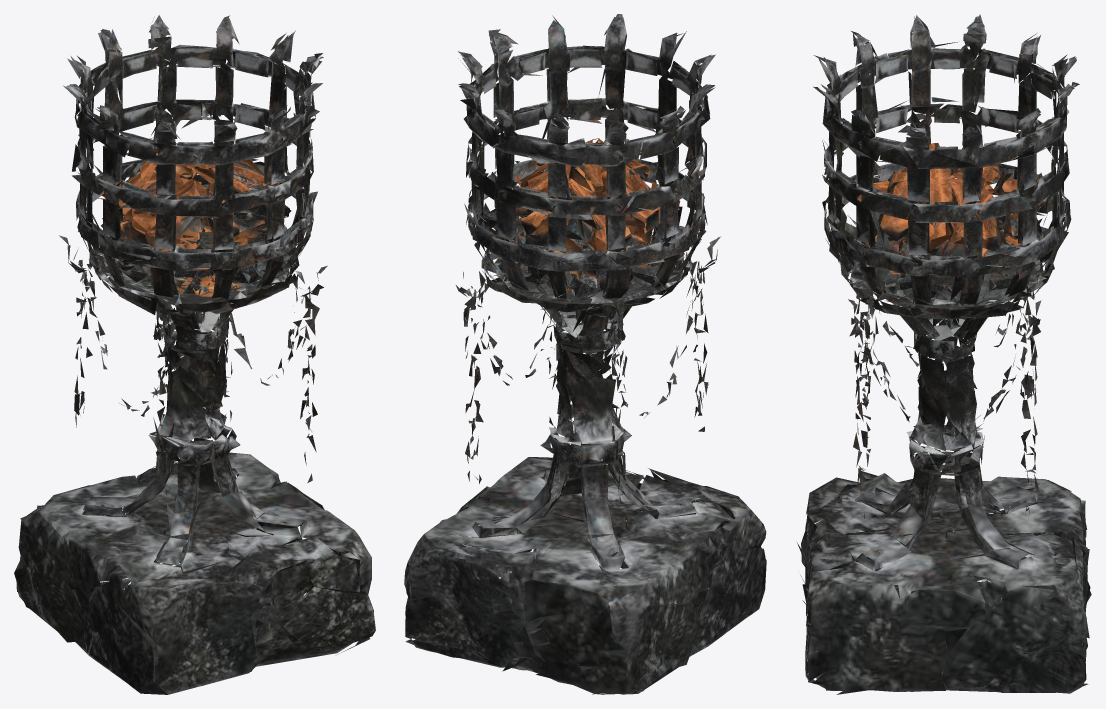
The model's file is brazier.glb.
3 renders of one model, left to right at view 1: azimuth 30°, elevation 25°; view 2: azimuth 150°, elevation 25°; view 3: azimuth 270°, elevation 25°, orthographic.
Visible parts, largest first — view 1: Mesh_0; view 2: Mesh_0; view 3: Mesh_0.
Part boxes in pixels (x1,y1,x2,y2): Mesh_0: (14,15,375,694); Mesh_0: (404,14,766,694); Mesh_0: (797,14,1091,694).
Bounding box in the file's own units: 0.943 × 2.16 × 1.01.
1 material, 1 textured.
